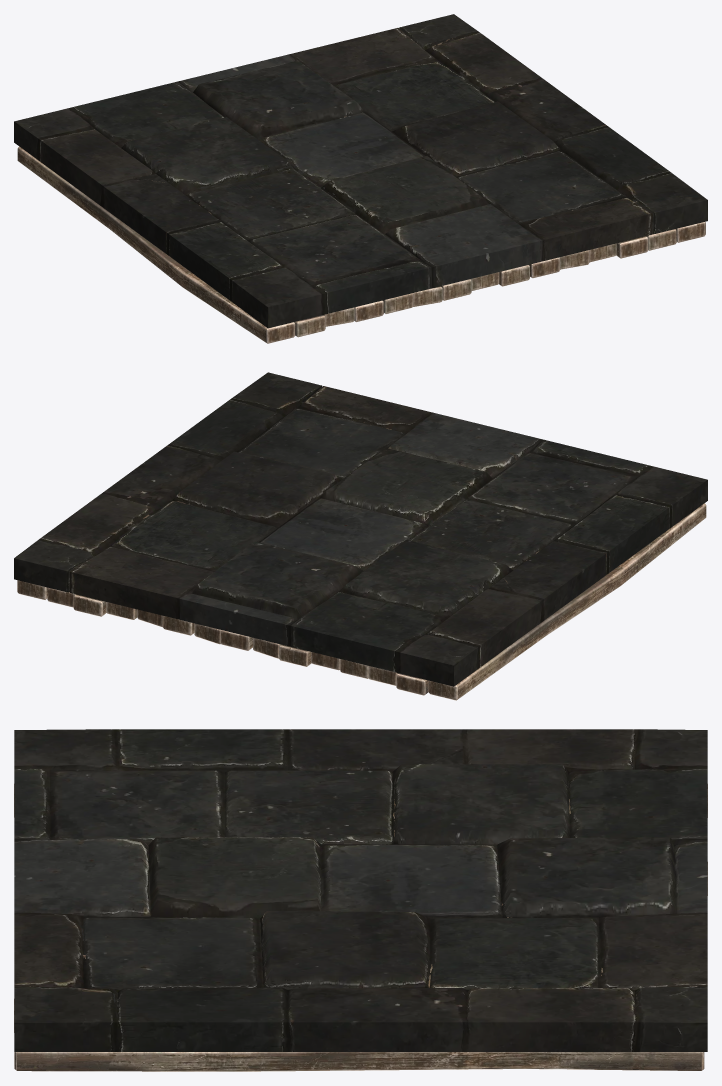
The picture shows the model from 3 angles, top to bottom: view 1: azimuth 30°, elevation 25°; view 2: azimuth 150°, elevation 25°; view 3: azimuth 270°, elevation 25°; orthographic projection. The views are drawn at different scales.
Visible parts, largest first — view 1: SM_DeathTemple_Floor_4x4_01_v1_LOD0; view 2: SM_DeathTemple_Floor_4x4_01_v1_LOD0; view 3: SM_DeathTemple_Floor_4x4_01_v1_LOD0.
Part boxes in pixels (x1,y1,x2,y2): SM_DeathTemple_Floor_4x4_01_v1_LOD0: (14, 14, 707, 343); SM_DeathTemple_Floor_4x4_01_v1_LOD0: (14, 372, 707, 700); SM_DeathTemple_Floor_4x4_01_v1_LOD0: (14, 729, 707, 1071).
Bounding box in the file's own units: 4 × 0.4261 × 4.
2 materials, 2 textured.
